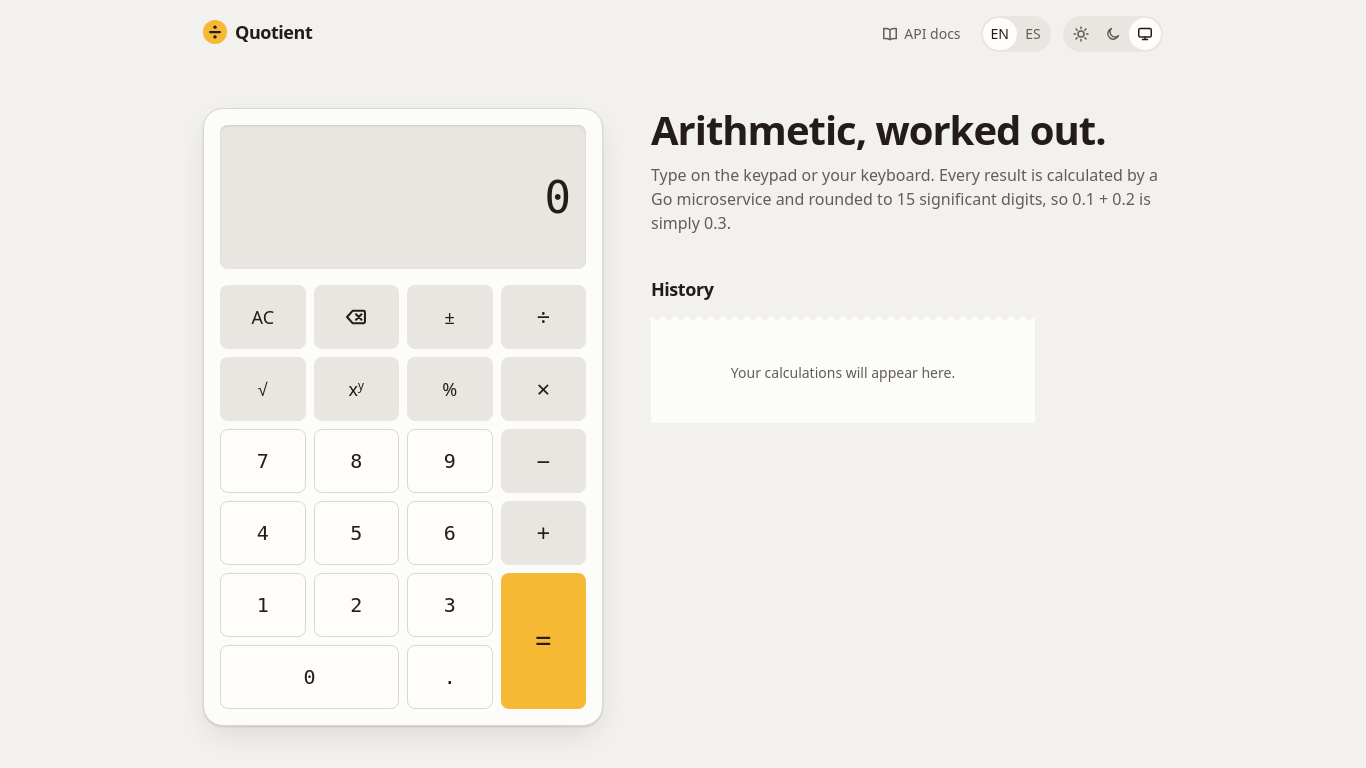
Scenario: App › translates the shell when the language changes
Click the button with aria-label "Español" at (1033, 34), box [1017,18,1049,50]
(page scrolled)
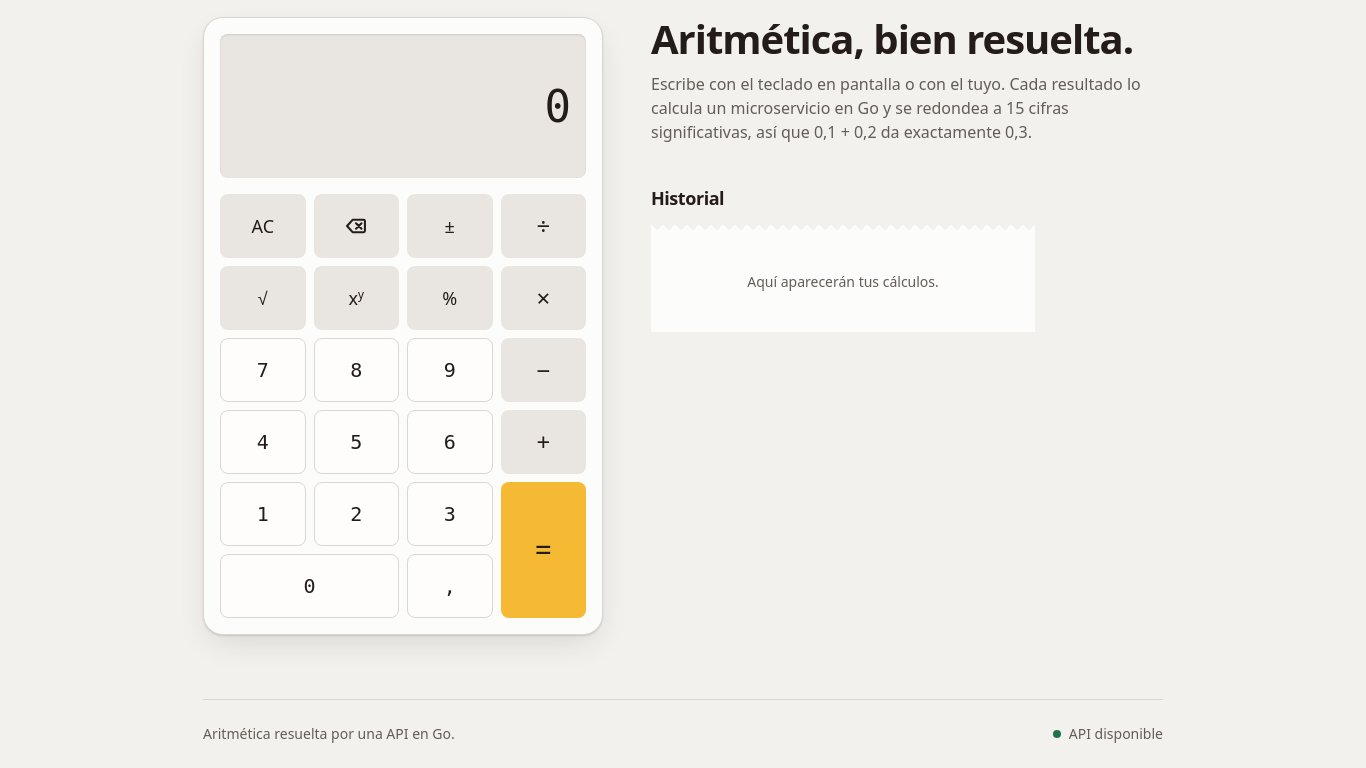
Expected: the footer shows "Aritmética resuelta por una API en Go.", [203,724,455,743]
